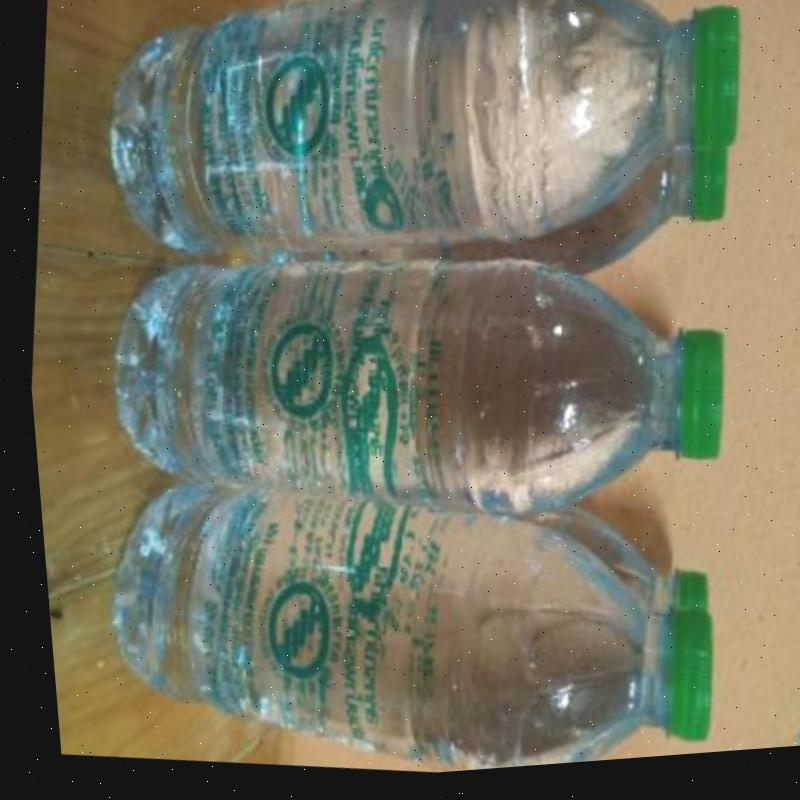botella: (72, 203, 737, 568), (72, 441, 722, 798), (81, 0, 756, 306), (494, 119, 732, 306), (483, 491, 705, 651)
